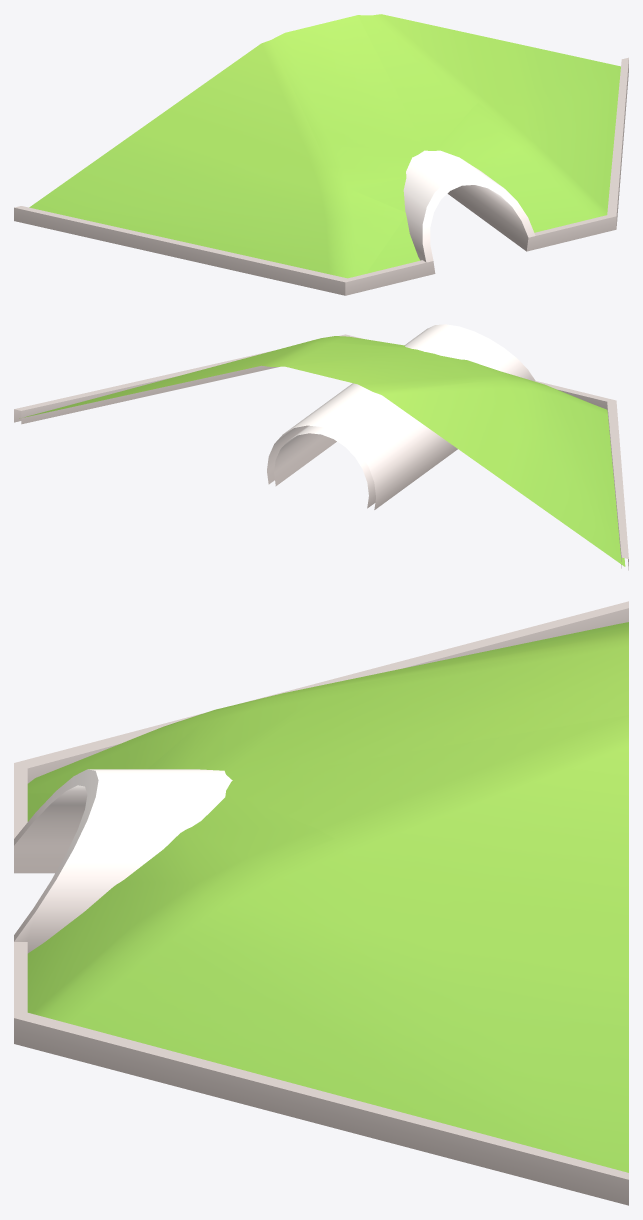
The model's file is city2-tunnel-01.glb.
3 views of the same model, one above another, from view 1: azimuth 30°, elevation 25°; view 2: azimuth 150°, elevation 25°; view 3: azimuth 270°, elevation 25° (orthographic). The views are drawn at different scales.
Parts seen in each view (by area): view 1: Tunnel_01; view 2: Tunnel_01; view 3: Tunnel_01.
Part boxes in pixels (x1,y1,x2,y2): Tunnel_01: (14,14,628,295); Tunnel_01: (14,324,628,570); Tunnel_01: (14,601,628,1205).
Bounding box in the file's own units: 100 × 19.01 × 45.
1 material, 1 textured.
